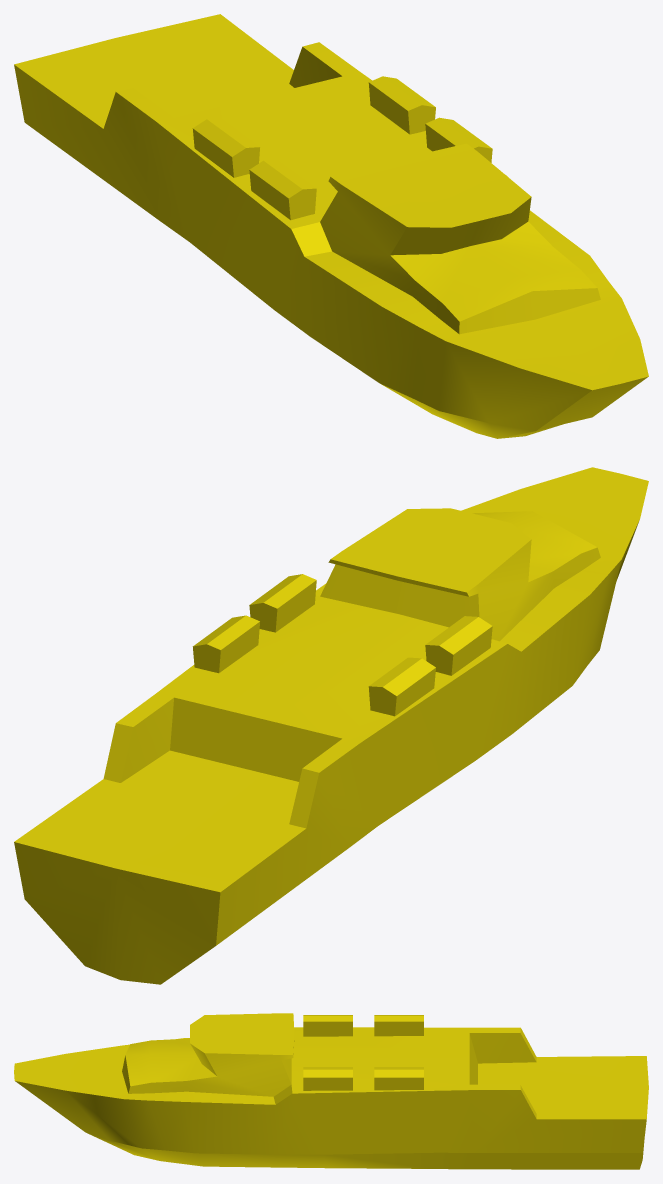
Rendered from Ship.fbx.
3 views of the same model, one above another, from view 1: azimuth 30°, elevation 25°; view 2: azimuth 150°, elevation 25°; view 3: azimuth 270°, elevation 25° (orthographic). The views are drawn at different scales.
Visible parts, largest first — view 1: Ship; view 2: Ship; view 3: Ship.
Part boxes in pixels (left/top/right/bottom): Ship: left=14, top=14, right=648, bottom=438; Ship: left=14, top=467, right=648, bottom=984; Ship: left=14, top=1013, right=648, bottom=1169.
Bounding box in the file's own units: 0.6943 × 0.6134 × 2.8.
